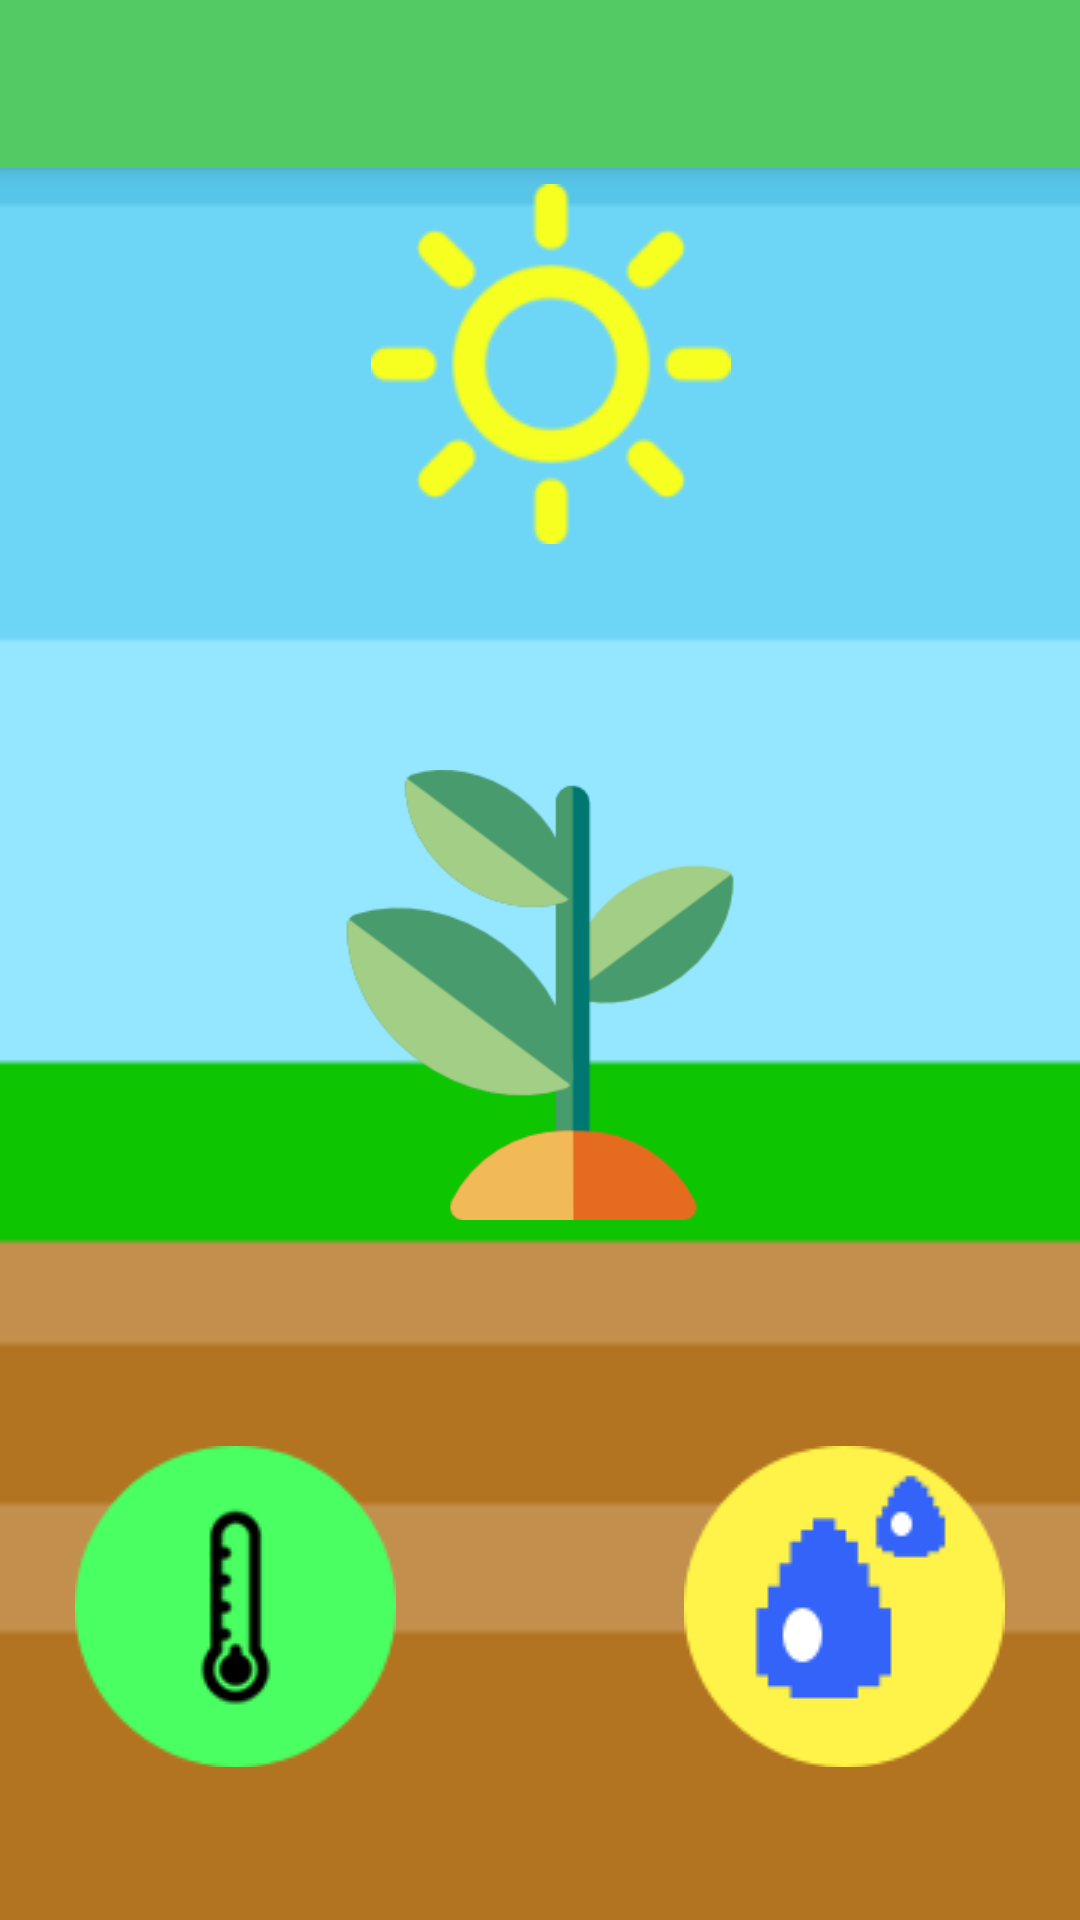

Icons on this 1080px×1920px Android screen, each with its box as [x1,y1,x2,y2]:
sun: [371,184,731,544]
water: [684,1446,1005,1767]
